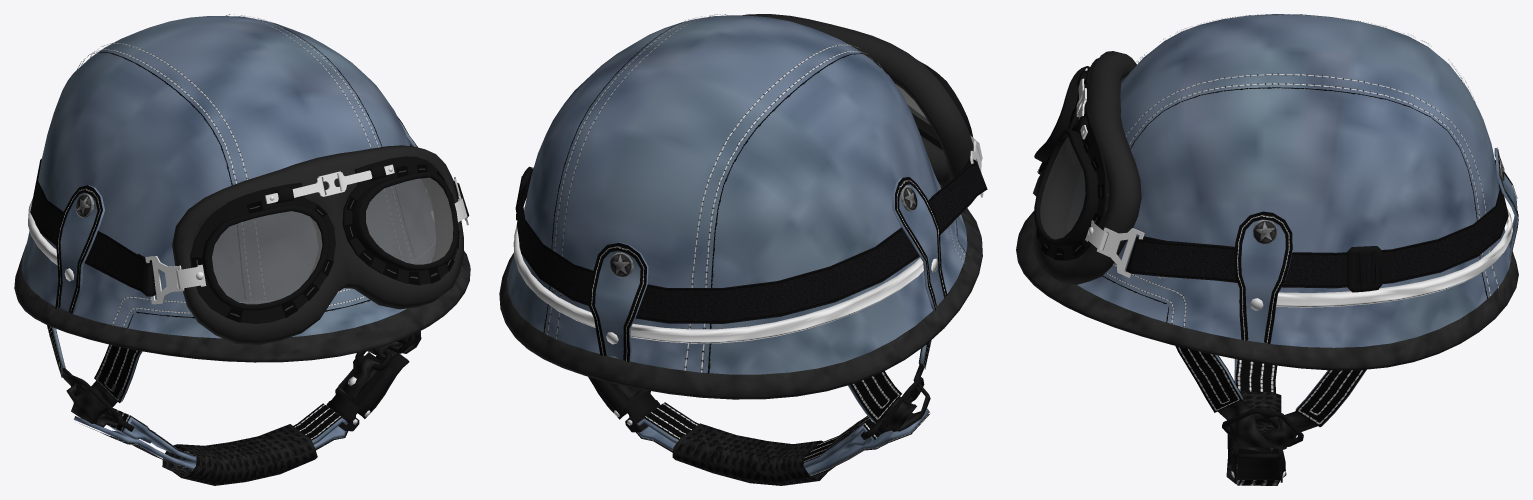
File: casque-upload.blend.fbx
3 views of the same model, side by side, from view 1: azimuth 30°, elevation 25°; view 2: azimuth 150°, elevation 25°; view 3: azimuth 270°, elevation 25° (orthographic). The views are drawn at different scales.
Parts seen in each view (by area): view 1: basemesh_1, ub_2, strips_3, basemesh.002_5, KLEPKI_0; view 2: basemesh_1, strips_3, ub_2, KLEPKI_0; view 3: basemesh_1, strips_3, ub_2, KLEPKI_0, basemesh.002_5.
Boxes of the visible parts, <box> form: basemesh_1: <box>14,16,470,485</box>; ub_2: <box>172,145,463,344</box>; strips_3: <box>28,14,469,470</box>; basemesh.002_5: <box>191,164,459,322</box>; KLEPKI_0: <box>64,128,433,424</box>; basemesh_1: <box>499,15,983,485</box>; strips_3: <box>513,14,987,484</box>; ub_2: <box>742,14,973,188</box>; KLEPKI_0: <box>606,185,937,425</box>; basemesh_1: <box>1016,14,1518,484</box>; strips_3: <box>1068,14,1518,485</box>; ub_2: <box>1033,51,1141,284</box>; KLEPKI_0: <box>1082,130,1504,477</box>; basemesh.002_5: <box>1036,69,1103,260</box>.
Size of the model in its own units: 195 by 202 by 216.
